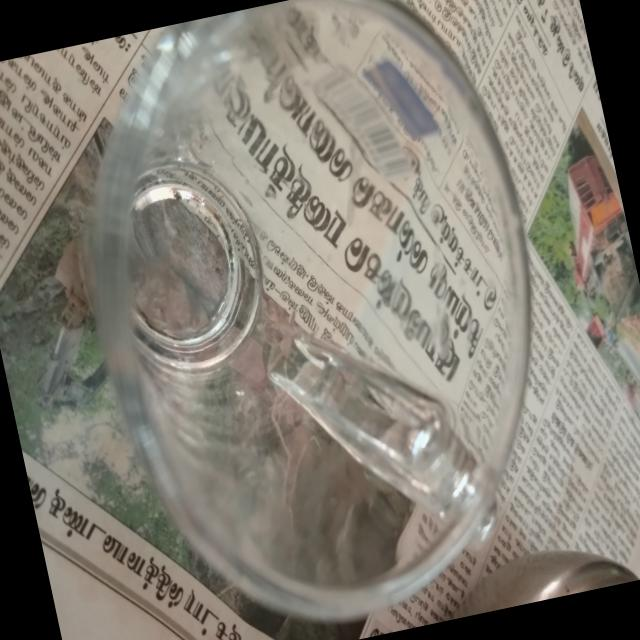glass-VX4N: (38, 0, 594, 640)
